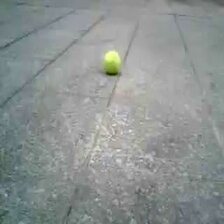tennis: (103, 51, 120, 71)
